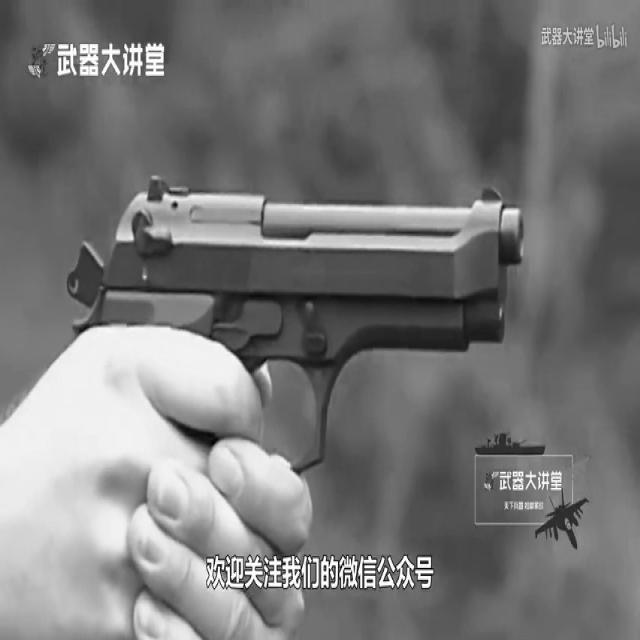Hand-Gun: (52, 179, 538, 603)
